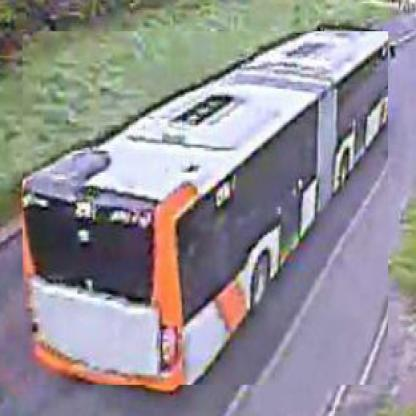bus: (24, 33, 391, 388)
